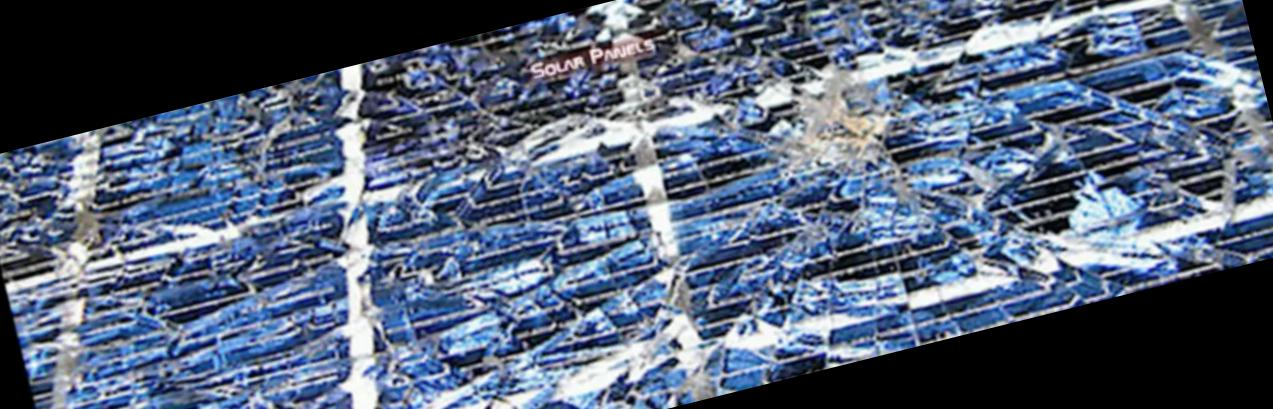Crack: (623, 0, 1262, 394), (357, 169, 685, 408), (62, 70, 376, 294), (85, 256, 388, 408)
